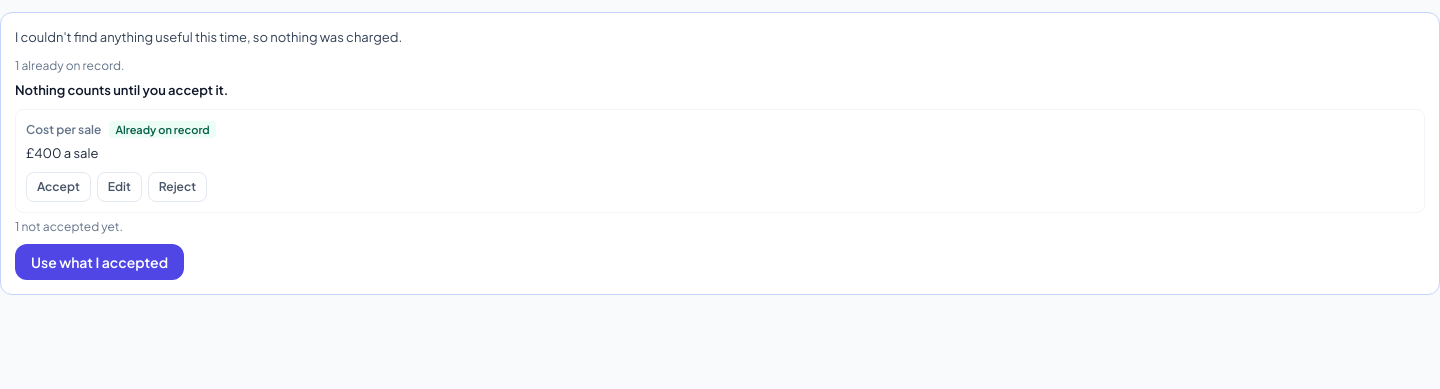
Test: Accept after an edit (the owner's QA, 20 Oct) › keeps the edited figure, never the old one
The image size is (1440, 389).
Click the button "Edit". click: (119, 187)
box: [97,172,142,202]
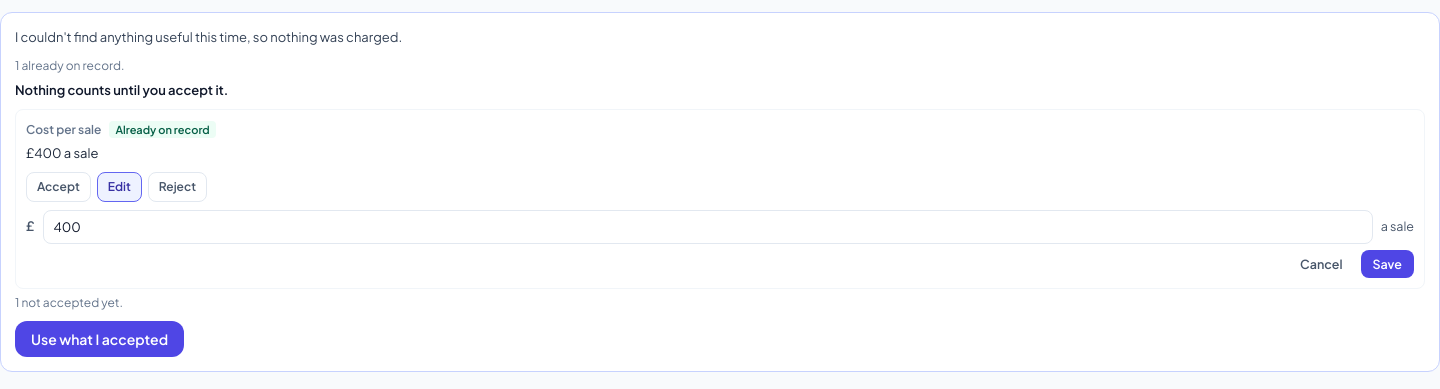
Replace the text in the text box named "Your version: Cost per sale" with "300". click: (708, 227)
box: [42,210,1373,244]
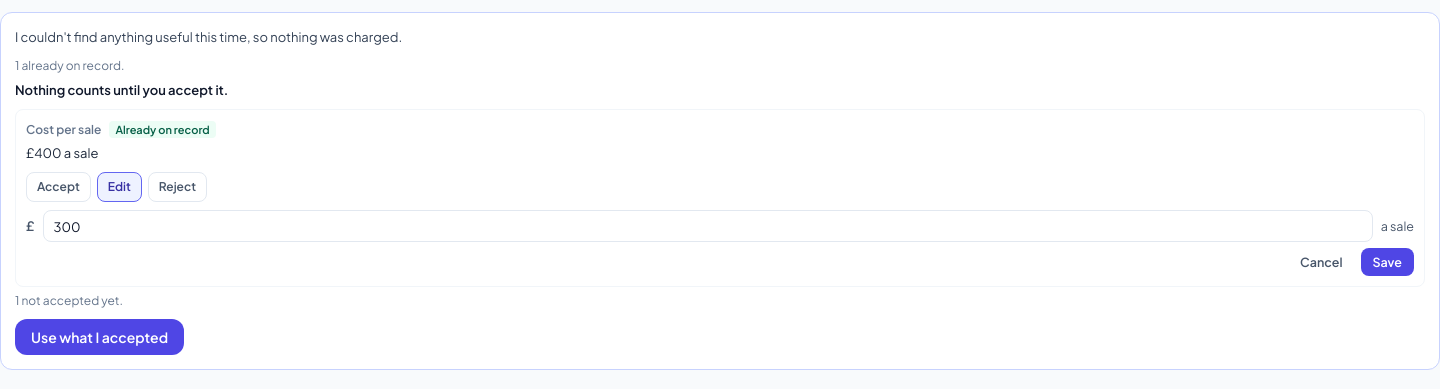
Click the button "Save". click: (1387, 262)
box: [1360,248,1414,276]
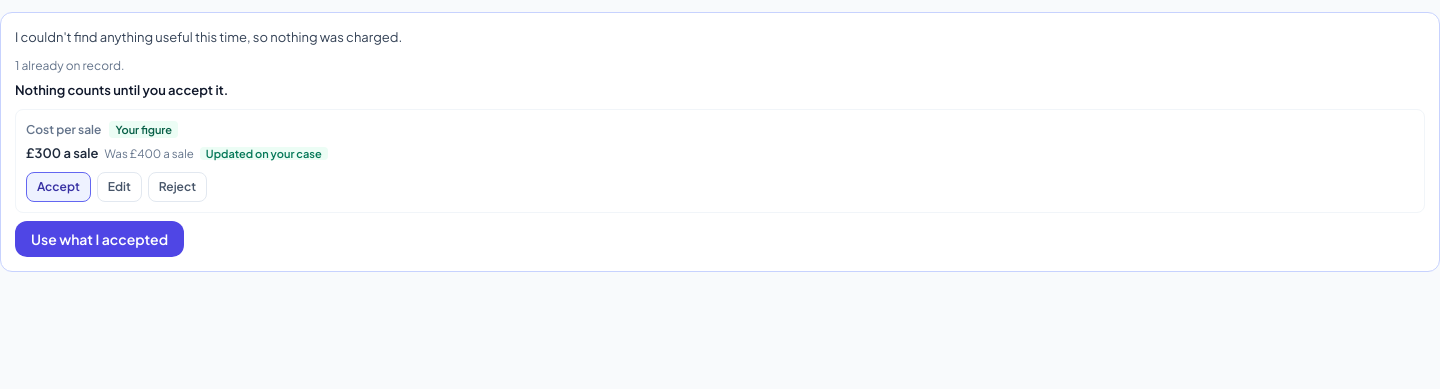
Click the button "Accept". click: (58, 187)
box: [26,172,91,202]
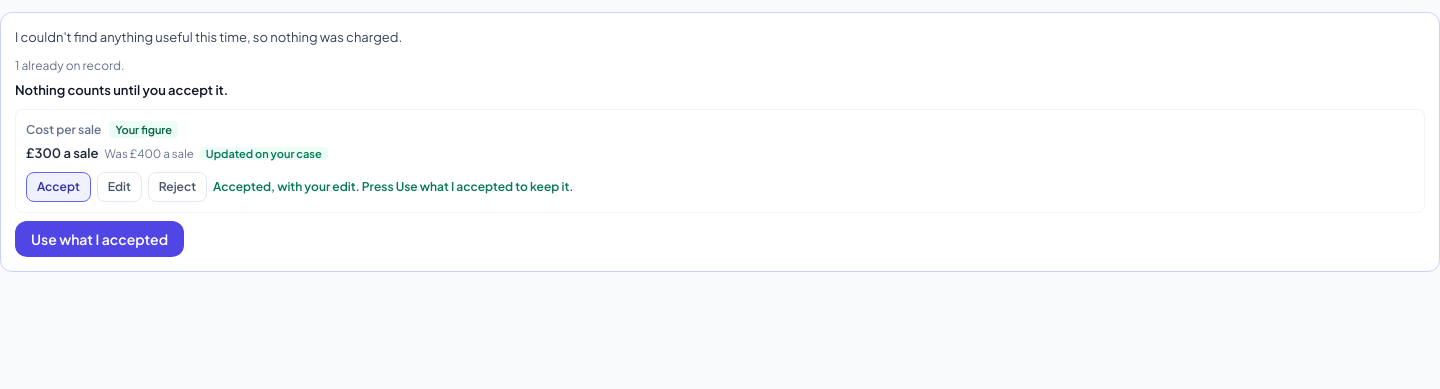
Result: the element that starts with "£300 a sale" is shown at [26,145,98,161]
Result: the text "Accepted, with your edit. Press Use what I accepted to keep it." is shown at [213,177,573,197]
